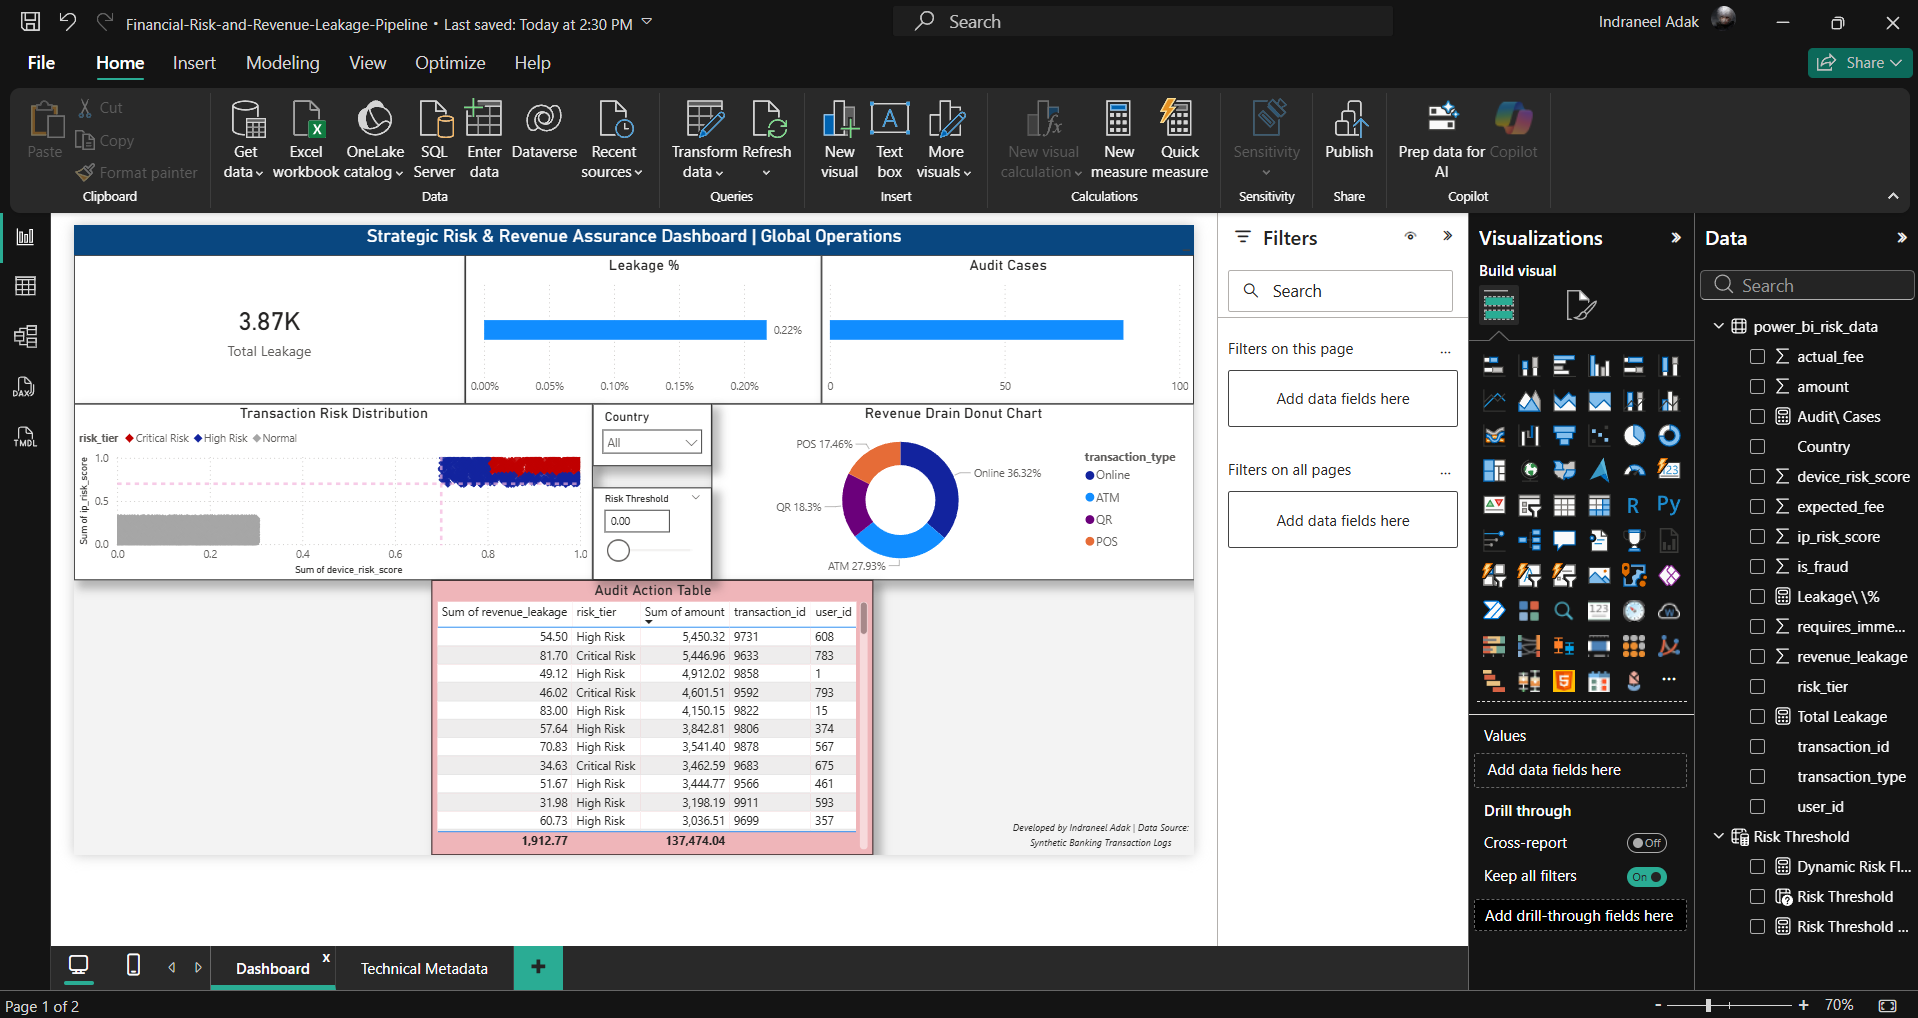

Layout of this report page (visuals, bound fields, positions):
{"tool":"powerbi","page":{"name":"Dashboard","canvas":[1280,720],"ordinal":0},"visuals":[{"type":"card","fields":{"Values":["power_bi_risk_data.Total Leakage"]},"box":[0,33.9,447.3,170.2],"z":0},{"type":"clusteredBarChart","title":"Leakage %","fields":{"Y":["power_bi_risk_data.Leakage\\ \\%"]},"box":[447.3,33.9,407.5,170.2],"z":1000},{"type":"clusteredBarChart","title":"Audit Cases","fields":{"Y":["power_bi_risk_data.Audit\\ Cases"]},"box":[854.9,34.3,425.4,170.2],"z":2000},{"type":"donutChart","title":"Revenue Drain Donut Chart","fields":{"Category":["power_bi_risk_data.transaction_type"],"Y":["power_bi_risk_data.Total Leakage"]},"box":[728.6,204.5,551.6,201.7],"z":3000},{"type":"scatterChart","title":"Transaction Risk Distribution","fields":{"X":["Sum(power_bi_risk_data.device_risk_score)"],"Y":["Sum(power_bi_risk_data.ip_risk_score)"],"Series":["power_bi_risk_data.risk_tier"],"Category":["power_bi_risk_data.transaction_id"]},"box":[0,204.5,592.8,201.7],"z":4000},{"type":"tableEx","title":"Audit Action Table","fields":{"Values":["Sum(power_bi_risk_data.revenue_leakage)","power_bi_risk_data.risk_tier","Sum(power_bi_risk_data.amount)","power_bi_risk_data.transaction_id","power_bi_risk_data.user_id"]},"box":[408.9,406.2,505,314.2],"z":5000},{"type":"slicer","fields":{"Values":["power_bi_risk_data.country"]},"box":[592.8,204,135.8,71.4],"z":6000},{"type":"slicer","fields":{"Values":["Risk Threshold.Risk Threshold"]},"box":[592.8,300.1,135.8,105.7],"z":7000},{"type":"textbox","title":"Strategic Risk & Revenue Assurance Dashboard | Global Operations","box":[0,0,1280.3,34.3],"z":8000},{"type":"textbox","box":[1067.6,672.4,212.7,48],"z":9000}]}

Visuals, with their boxes on the page's 1280x720 design canvas (x1, y1, x2, y2). These are canvas units, not pixel positions in the 1918x1018 screenshot, which may show the page scaled, cropped or inside an application window:
card - power_bi_risk_data.Total Leakage: (0,34,447,204)
"Leakage %" clusteredBarChart: (447,34,855,204)
"Audit Cases" clusteredBarChart: (855,34,1280,204)
"Revenue Drain Donut Chart" donutChart: (729,204,1280,406)
"Transaction Risk Distribution" scatterChart: (0,204,593,406)
"Audit Action Table" tableEx: (409,406,914,720)
slicer - power_bi_risk_data.country: (593,204,729,275)
slicer - Risk Threshold.Risk Threshold: (593,300,729,406)
"Strategic Risk & Revenue Assurance Dashboard | Global Operations" textbox: (0,0,1280,34)
textbox: (1068,672,1280,720)
